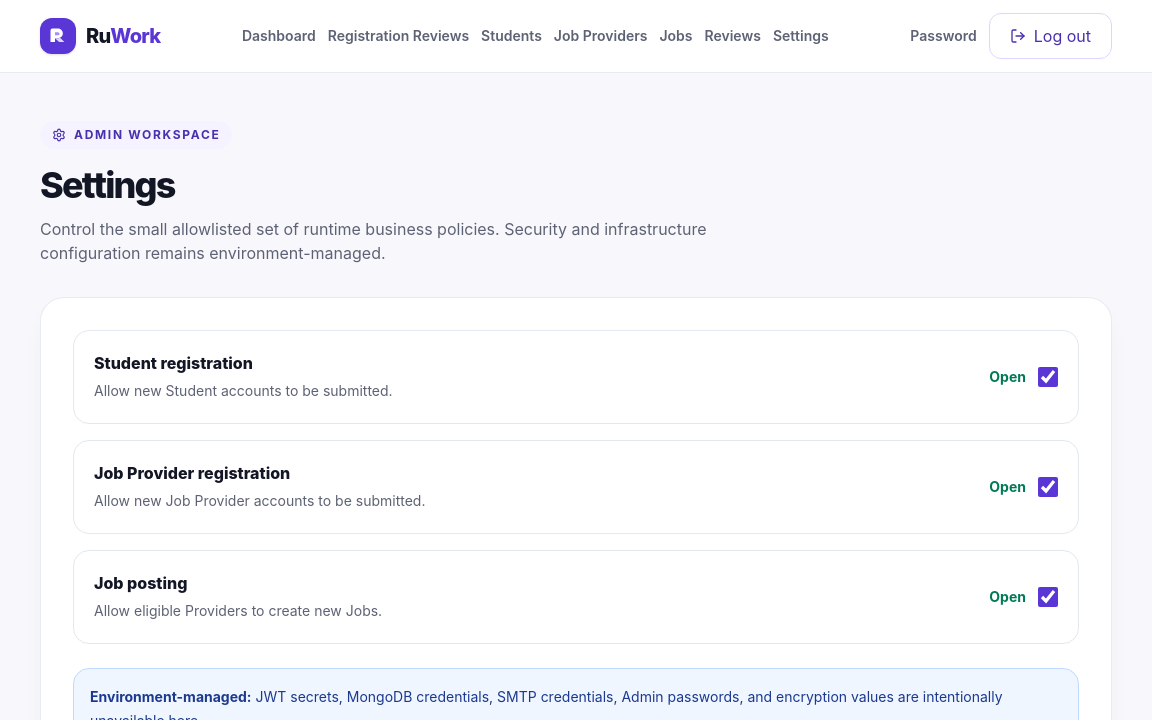
Test: Phase 9 Admin workspace › updates only allowlisted Settings and exposes paginated audit activity
Click the checkbox labelled "Job posting".
click(1048, 597)  # box top-left (1038, 587), bottom-right (1058, 607)
(page scrolled)
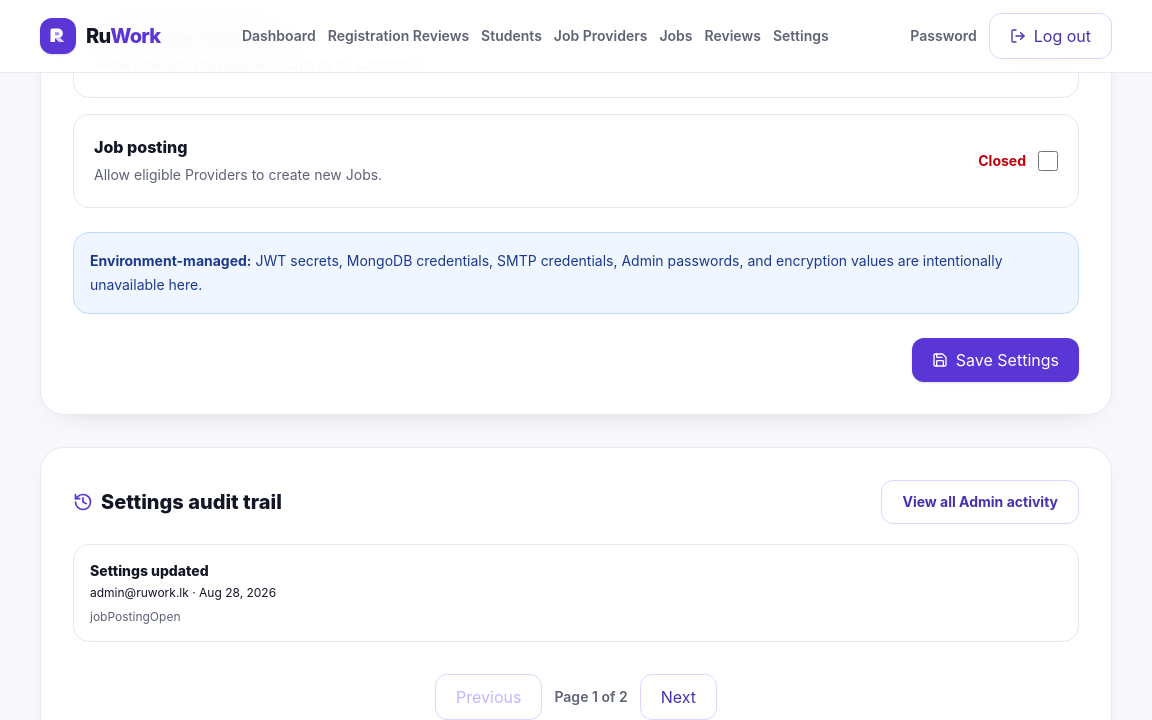
Click the button "Save Settings".
click(995, 360)  # box top-left (912, 338), bottom-right (1079, 382)
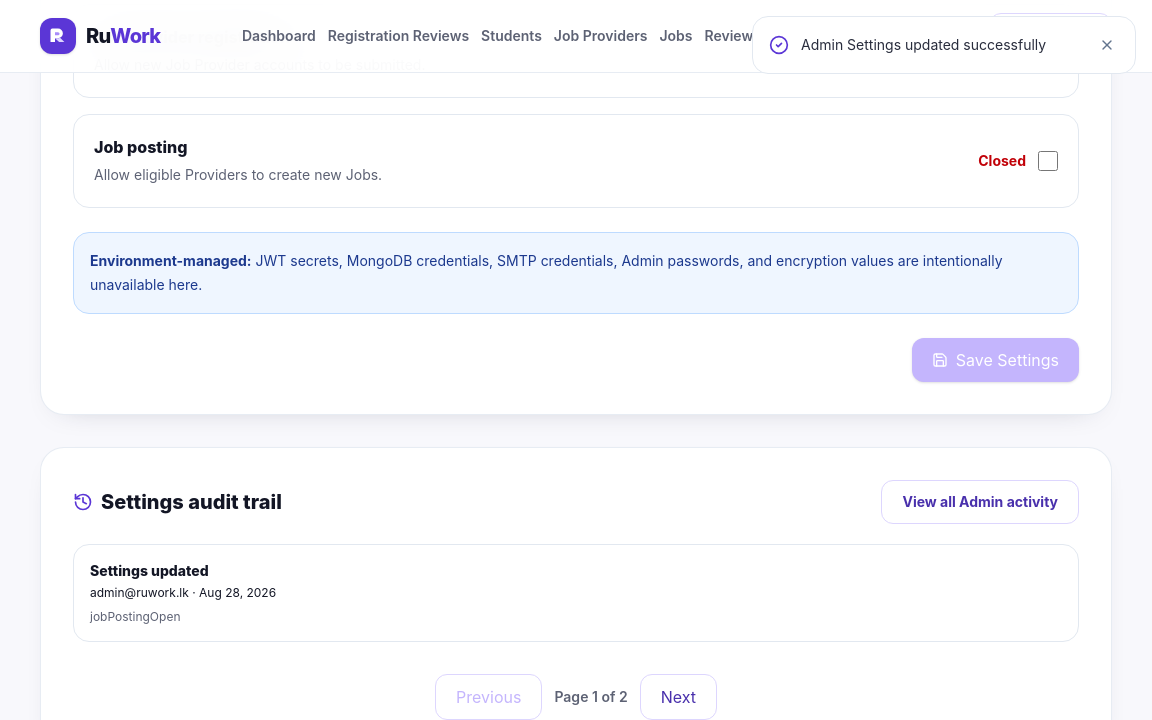
Expected: the text "JWT secrets" is shown, top-left (90, 252), bottom-right (1003, 293)
Now the text "Admin Settings updated successfully" is shown, box top-left (801, 33), bottom-right (1083, 57)
